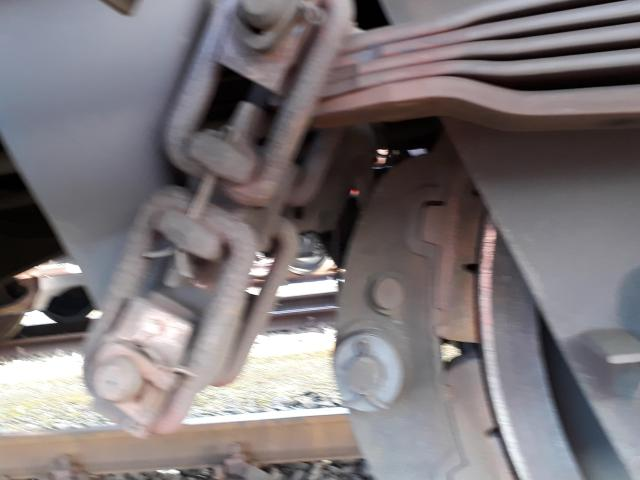blattfederww: (259, 13, 640, 134)
